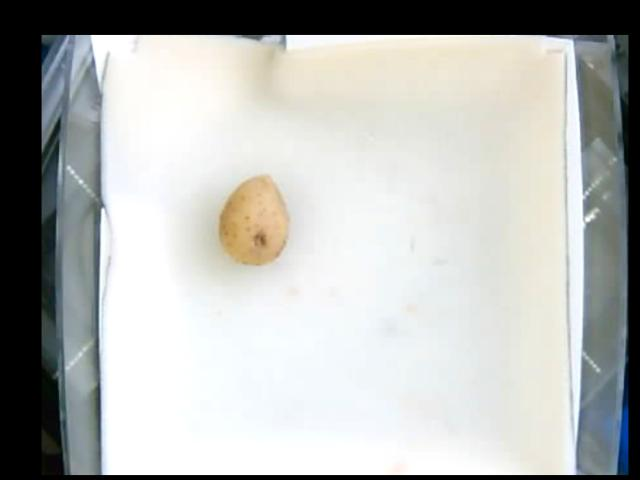Potato: (220, 173, 287, 265)
